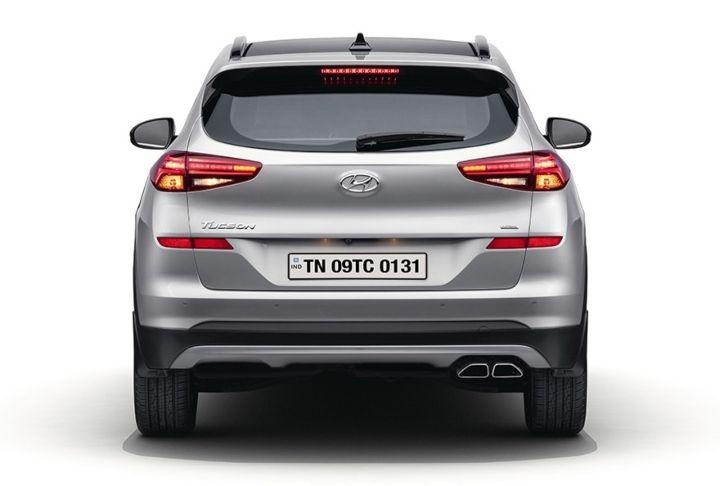number_plate: (288, 248, 429, 281)
